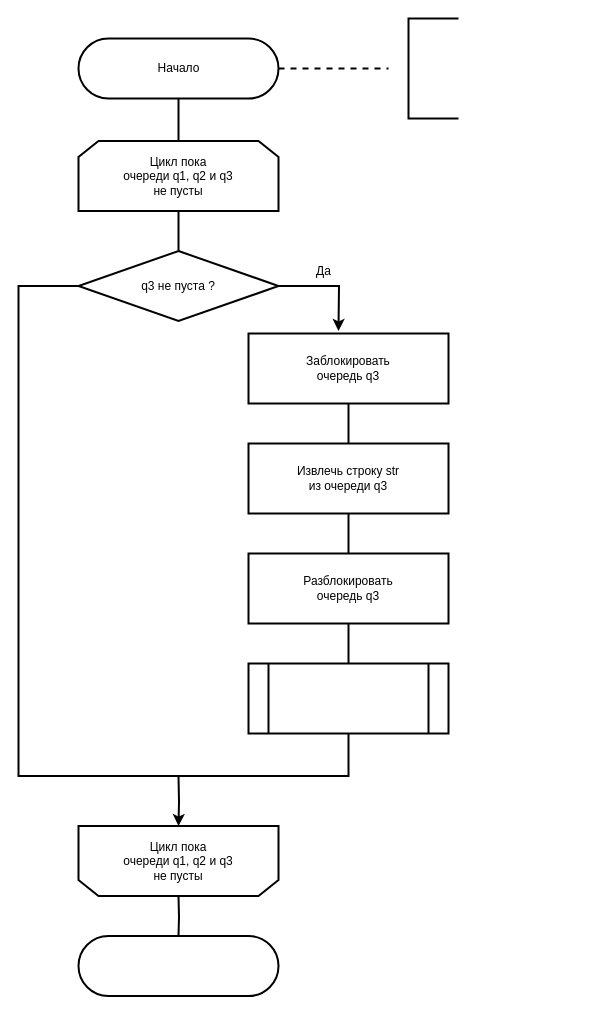
Some shapes in this 594 by 1014 pixel diagram are drawn without their labels. Each missing label, with the centre of its shape:
"check_palindrome(str)" belongs at point (348, 698).
"Алгоритм работы третьей ленты Вход: очереди q1, q2, q3 Выход: лог обработки" belongs at point (433, 68).
"Конец" belongs at point (178, 965).
